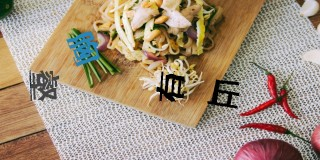丘: (208, 78, 240, 109)
壑: (27, 69, 60, 101)
有: (156, 71, 185, 102)
胸: (65, 32, 100, 66)
